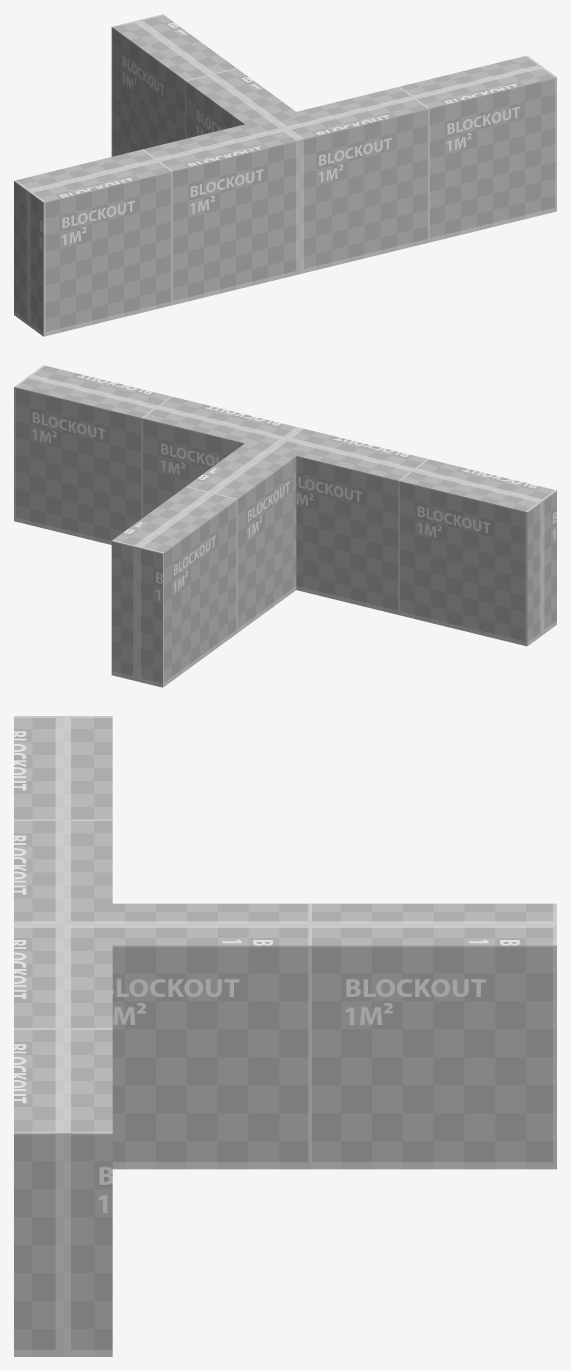
Rendered from BlockoutEdgeFullThinJunctionThreeWay.fbx.
3 views of the same model, one above another, from view 1: azimuth 30°, elevation 25°; view 2: azimuth 150°, elevation 25°; view 3: azimuth 270°, elevation 25° (orthographic). The views are drawn at different scales.
Visible parts, largest first — view 1: BlockoutEdgeFullThinJunctionThreeWay; view 2: BlockoutEdgeFullThinJunctionThreeWay; view 3: BlockoutEdgeFullThinJunctionThreeWay.
Part boxes in pixels (<box>): BlockoutEdgeFullThinJunctionThreeWay: <box>14,14,556,336</box>; BlockoutEdgeFullThinJunctionThreeWay: <box>14,365,556,687</box>; BlockoutEdgeFullThinJunctionThreeWay: <box>14,716,556,1356</box>.
Size of the model in its own units: 400 by 100 by 220.
